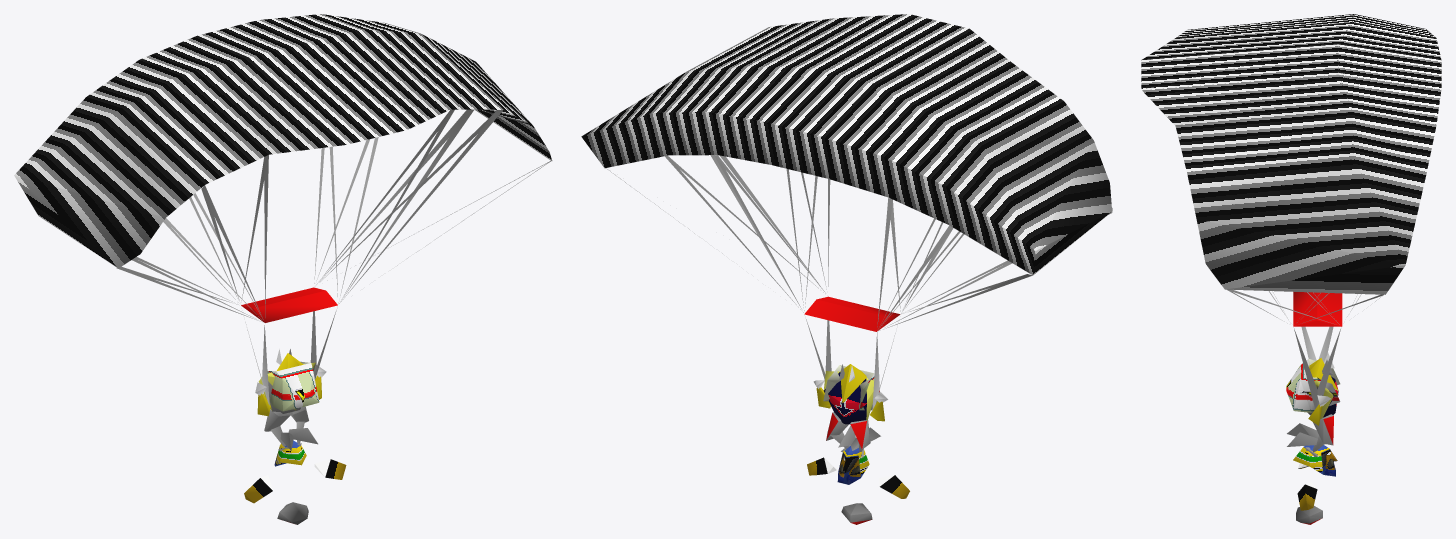
Rendered from uvmd-0339.glb.
3 renders of one model, left to right at view 1: azimuth 30°, elevation 25°; view 2: azimuth 150°, elevation 25°; view 3: azimuth 270°, elevation 25°, orthographic.
Visible parts, largest first — view 1: part-18, part-19, part-01; view 2: part-18, part-19, part-01, part-15; view 3: part-18, part-19, part-01, part-15, part-16, part-09, part-17, part-05, part-08.
Boxes of the visible parts, <box> form: part-18: <box>14,14,551,268</box>; part-19: <box>116,109,552,322</box>; part-01: <box>258,353,319,413</box>; part-18: <box>581,14,1111,275</box>; part-19: <box>606,18,1112,331</box>; part-01: <box>823,364,879,424</box>; part-15: <box>837,446,869,484</box>; part-18: <box>1141,14,1441,294</box>; part-19: <box>1224,287,1383,326</box>; part-01: <box>1286,358,1340,419</box>; part-15: <box>1293,445,1337,476</box>; part-16: <box>1294,328,1340,408</box>; part-09: <box>1313,414,1333,445</box>; part-17: <box>1301,326,1333,362</box>; part-05: <box>1297,482,1317,510</box>; part-08: <box>1296,506,1322,524</box>.
Size of the model in its own units: 642 by 617 by 360.
Materials: 26 (26 with a texture image).
